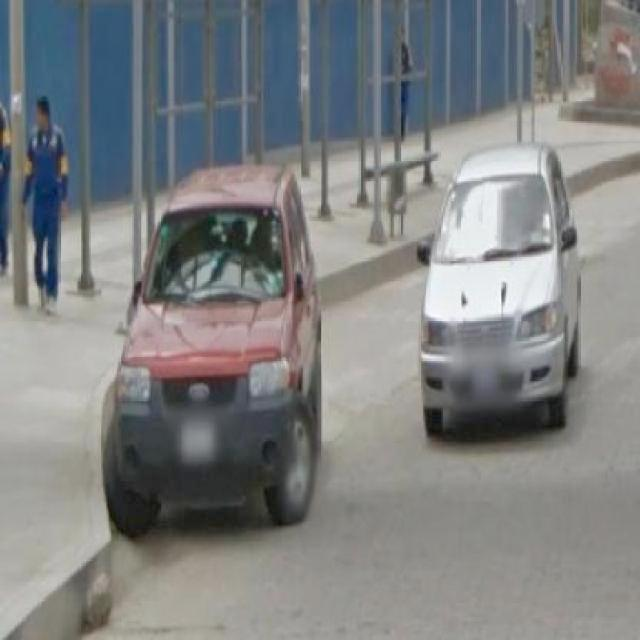car: (113, 162, 330, 536)
